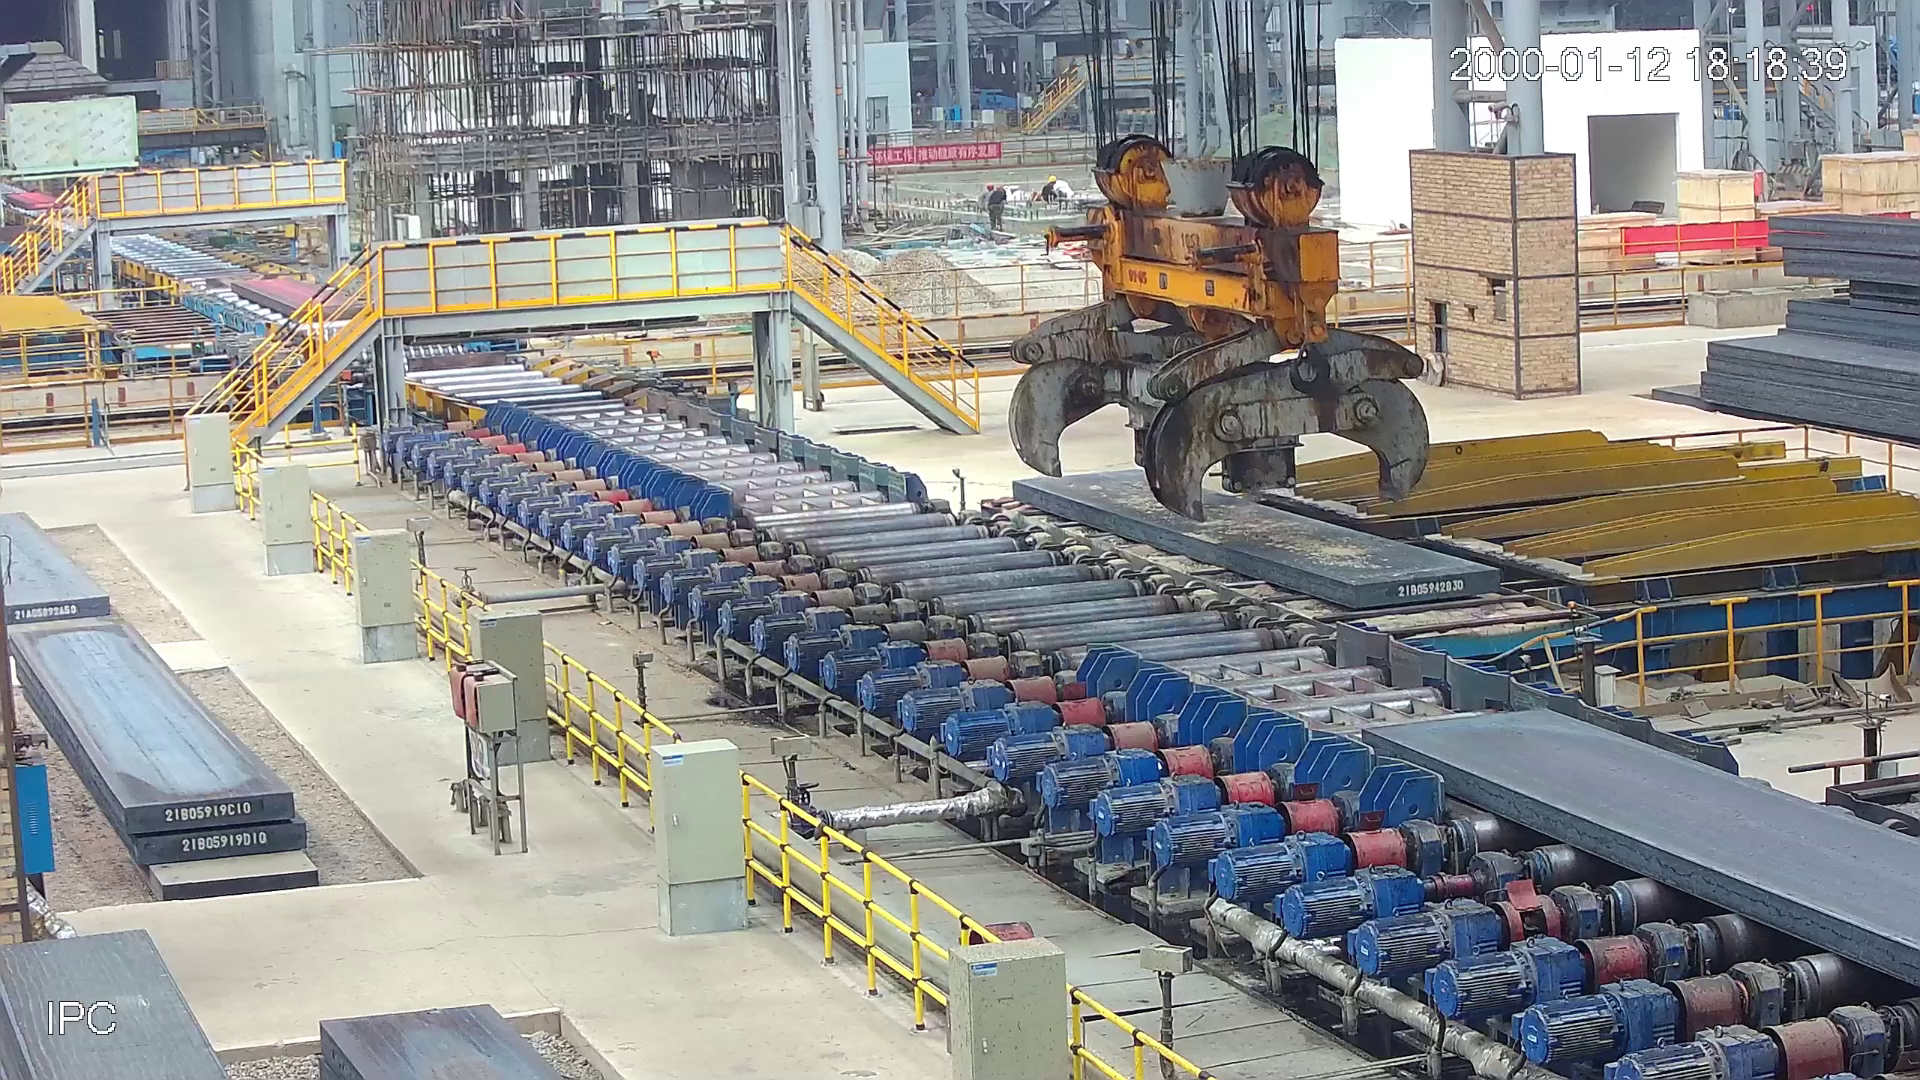crane: (1004, 117, 1449, 522)
slab: (1356, 703, 1920, 990), (1009, 460, 1513, 629), (224, 272, 369, 322)
